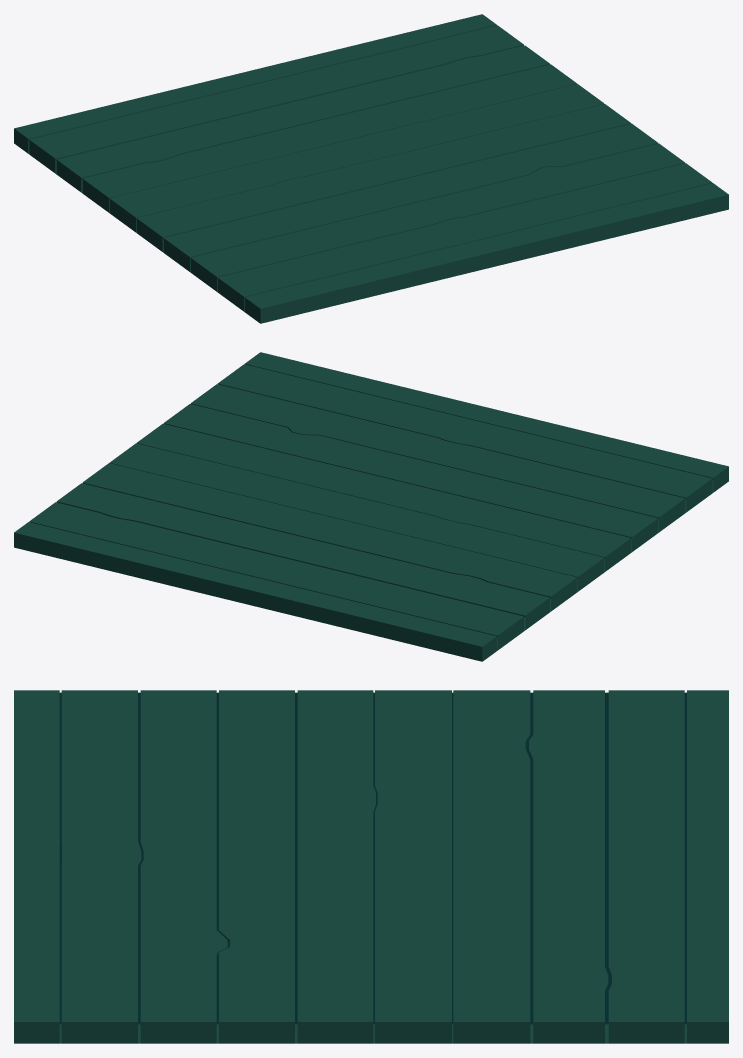
File: FloorPanel.fbx
3 views of the same model, one above another, from view 1: azimuth 30°, elevation 25°; view 2: azimuth 150°, elevation 25°; view 3: azimuth 270°, elevation 25° (orthographic). The views are drawn at different scales.
Visible parts, largest first — view 1: floorPanel_geo; view 2: floorPanel_geo; view 3: floorPanel_geo.
Part boxes in pixels (box(x1,y1,x2,y2)): floorPanel_geo: box(14, 14, 728, 323); floorPanel_geo: box(14, 352, 728, 661); floorPanel_geo: box(14, 690, 728, 1043).
Bounding box in the file's own units: 525 × 16.03 × 479.
Materials: 1 (1 with a texture image).
